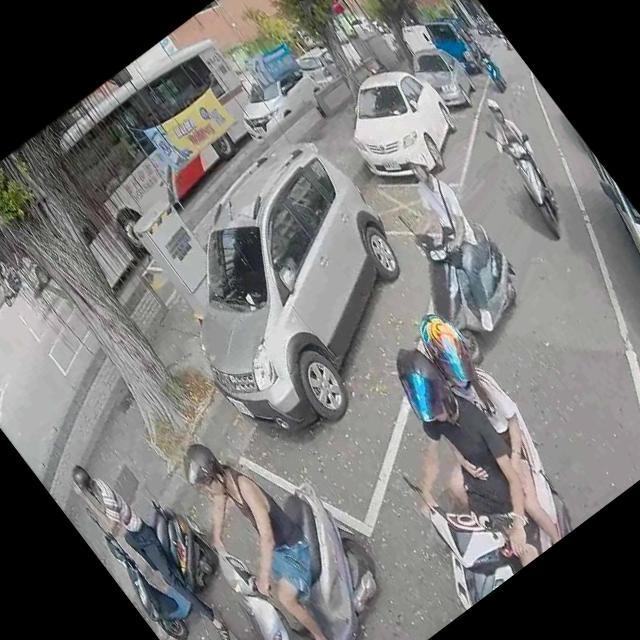person: (328, 329, 574, 600), (361, 306, 598, 574), (148, 414, 379, 640), (60, 447, 239, 640), (374, 146, 536, 332), (468, 94, 574, 218), (469, 36, 508, 84), (0, 262, 19, 299)
